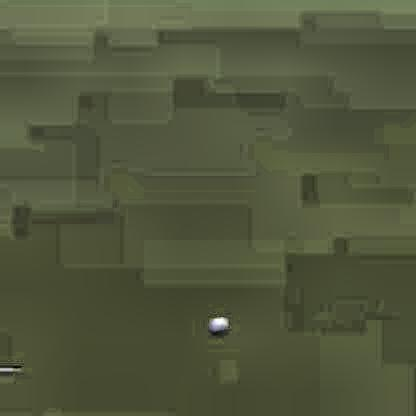golfball: (206, 314, 226, 334)
